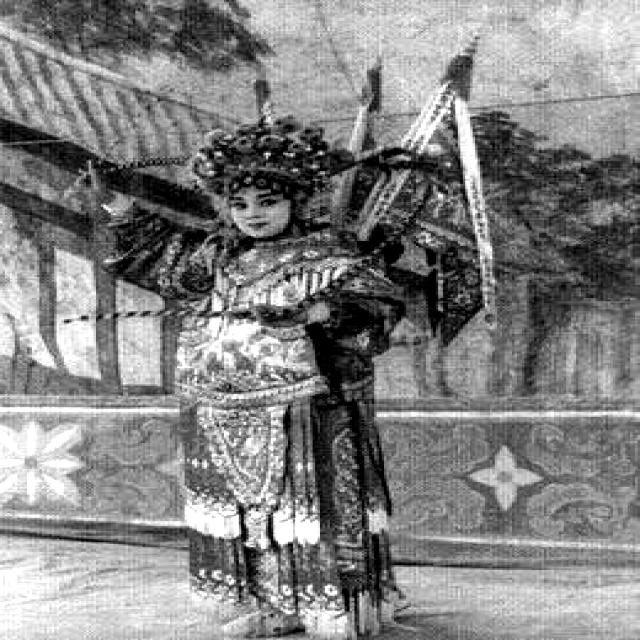Reeves-s Pheasant: (45, 141, 436, 326)
